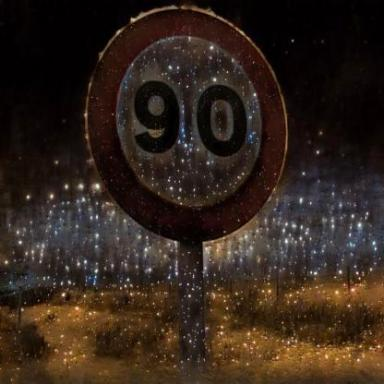Speed_limit_90: (87, 12, 283, 239)
